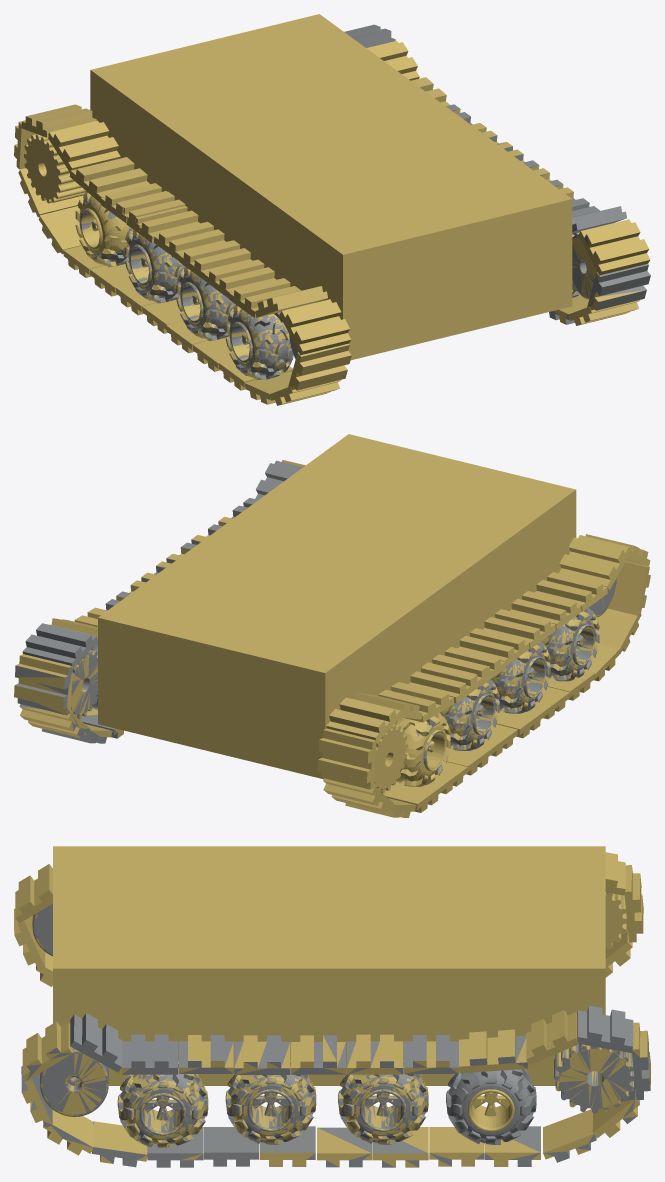
File: Tonk.glb
3 renders of one model, top to bottom at view 1: azimuth 30°, elevation 25°; view 2: azimuth 150°, elevation 25°; view 3: azimuth 270°, elevation 25°, orthographic. The views are drawn at different scales.
Visible parts, largest first — view 1: Mesh_Mesh_head_geo.001_lambert2SG.001; view 2: Mesh_Mesh_head_geo.001_lambert2SG.001; view 3: Mesh_Mesh_head_geo.001_lambert2SG.001.
Part boxes in pixels (left/top/right/bottom): Mesh_Mesh_head_geo.001_lambert2SG.001: left=14, top=14, right=650, bottom=405; Mesh_Mesh_head_geo.001_lambert2SG.001: left=14, top=434, right=650, bottom=817; Mesh_Mesh_head_geo.001_lambert2SG.001: left=14, top=846, right=650, bottom=1167.
Size of the model in its own units: 104 by 43 by 147.
